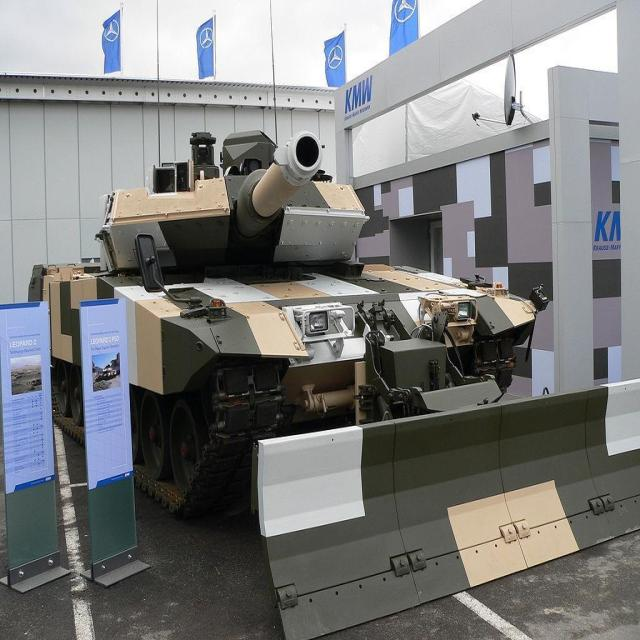Tanks: (29, 126, 631, 566)
